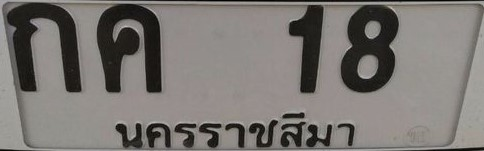txt01: (4, 1, 84, 95)
txt03: (94, 3, 165, 95)
